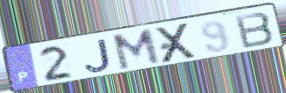2: (38, 44, 77, 84)
9: (200, 19, 231, 54)
B: (233, 11, 277, 50)
J: (82, 37, 113, 74)
M: (110, 26, 163, 73)
X: (154, 21, 200, 66)
